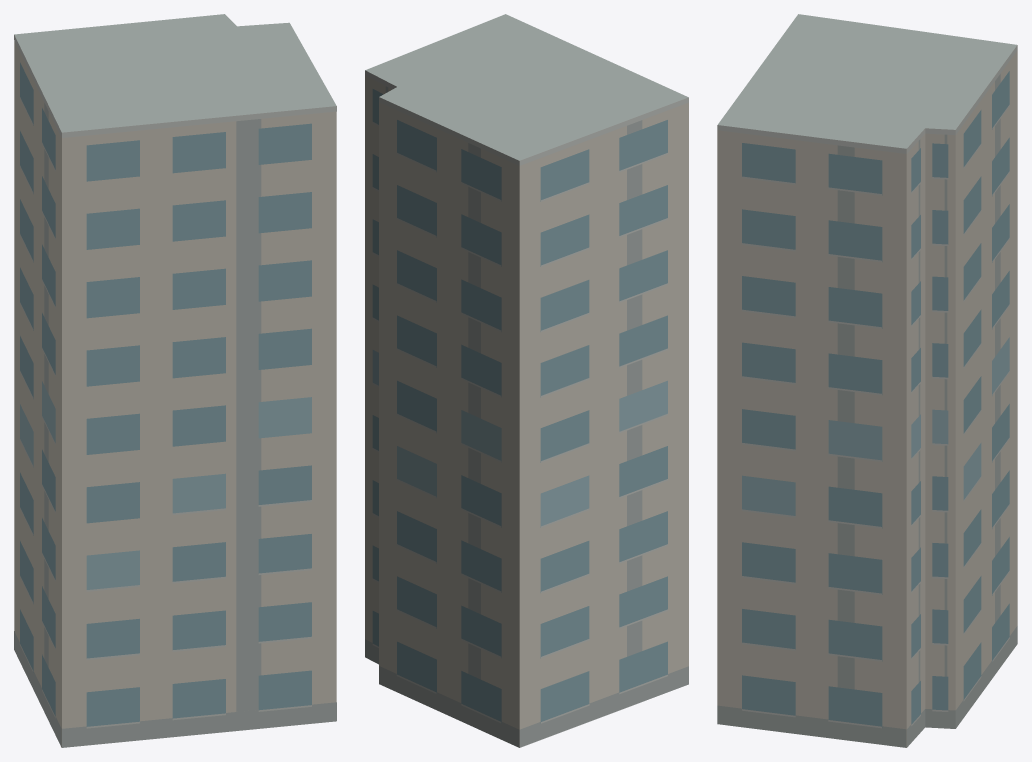
File: survey-upis-32947968.glb
3 renders of one model, left to right at view 1: azimuth 30°, elevation 25°; view 2: azimuth 150°, elevation 25°; view 3: azimuth 270°, elevation 25°, orthographic. The views are drawn at different scales.
Visible parts, largest first — view 1: survey-upis-32947968.tmp; view 2: survey-upis-32947968.tmp; view 3: survey-upis-32947968.tmp.
Boxes of the visible parts, x1,y1,x2,y2 form: survey-upis-32947968.tmp: [14, 14, 336, 747]; survey-upis-32947968.tmp: [365, 14, 688, 747]; survey-upis-32947968.tmp: [717, 14, 1017, 747].
Size of the model in its own units: 13.25 by 27.45 by 12.47.
